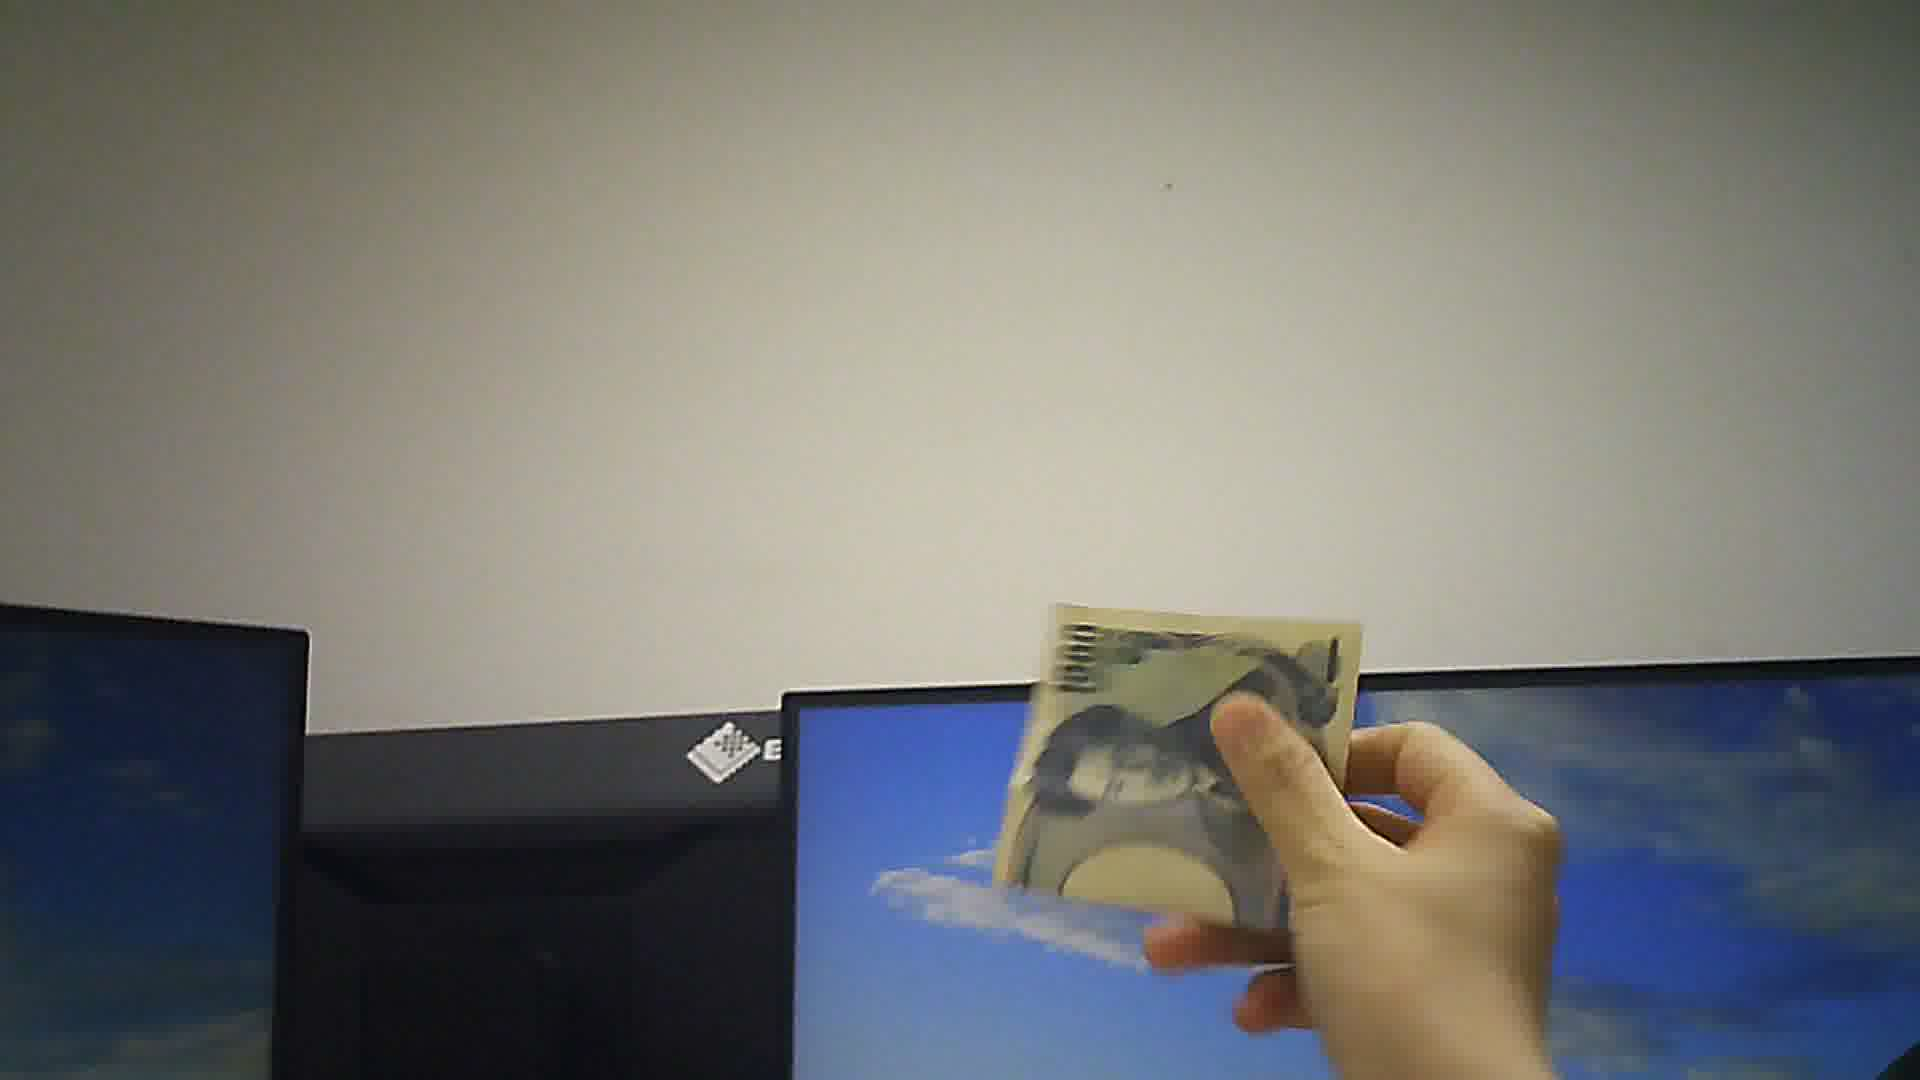1,000 Yen: (1002, 591, 1361, 922)
